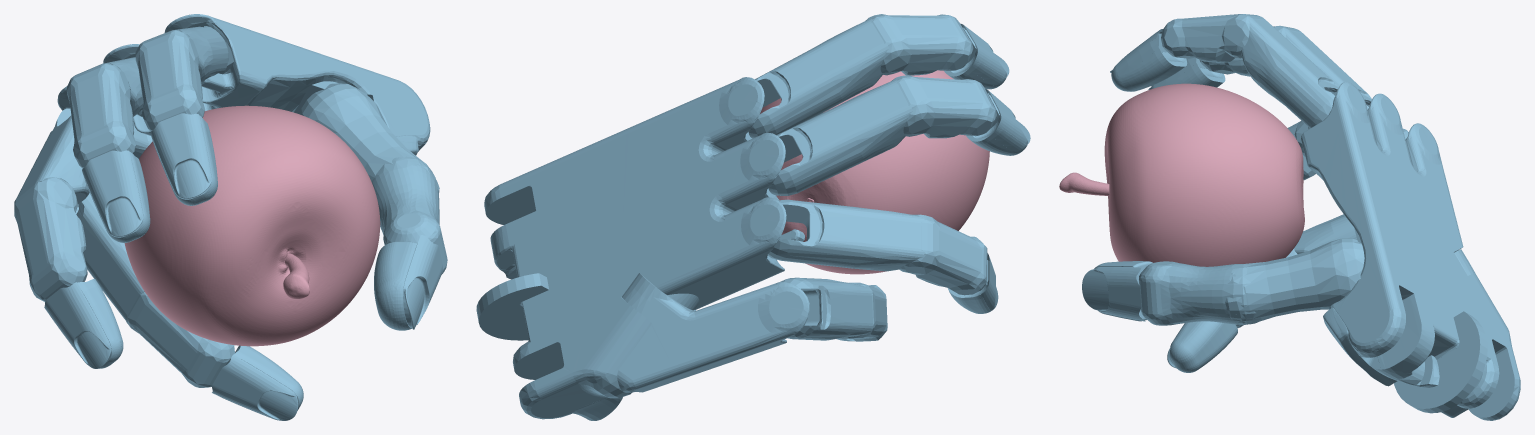
3 renders of one model, left to right at view 1: azimuth 30°, elevation 25°; view 2: azimuth 150°, elevation 25°; view 3: azimuth 270°, elevation 25°, orthographic. The views are drawn at different scales.
Parts seen in each view (by area): view 1: world, apple.stl; view 2: world, apple.stl; view 3: world, apple.stl.
Part boxes in pixels (x1,y1,x2,y2): world: [14, 14, 447, 420]; apple.stl: [124, 105, 380, 346]; world: [476, 14, 1030, 420]; apple.stl: [760, 70, 989, 274]; world: [1082, 14, 1520, 420]; apple.stl: [1059, 83, 1304, 266].
Size of the model in its own units: 0.1632 by 0.1295 by 0.1659.
